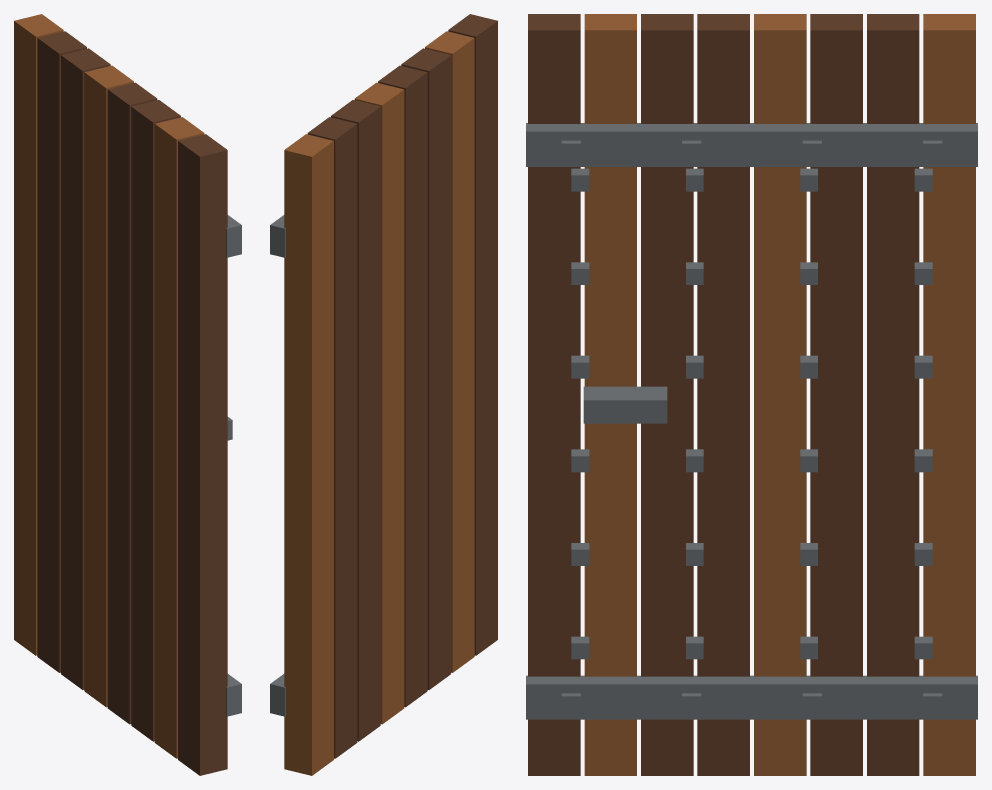
Rendered from DoorStudded__Single.fbx.
The picture shows the model from 3 angles, left to right: view 1: azimuth 30°, elevation 25°; view 2: azimuth 150°, elevation 25°; view 3: azimuth 270°, elevation 25°; orthographic projection. The views are drawn at different scales.
Parts seen in each view (by area): view 1: DoorStudded__Single; view 2: DoorStudded__Single; view 3: DoorStudded__Single.
Boxes of the visible parts, left/top/right/bottom form: DoorStudded__Single: left=14, top=14, right=241, bottom=775; DoorStudded__Single: left=270, top=14, right=497, bottom=775; DoorStudded__Single: left=526, top=14, right=977, bottom=775.
Size of the model in its own units: 24 by 255 by 140.
Materials: 1 (1 with a texture image).
